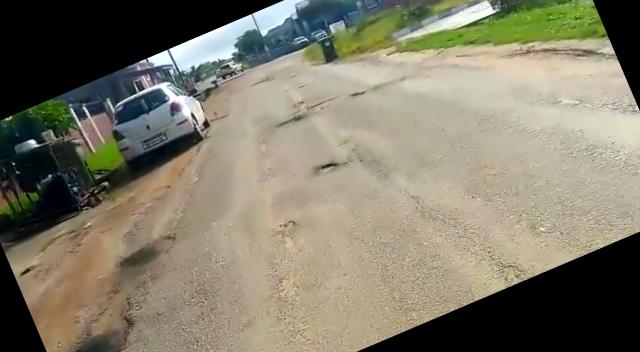pothole: (309, 153, 350, 180)
